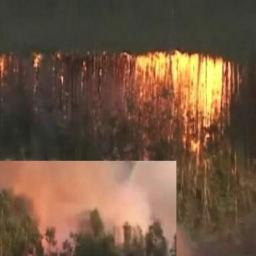Heavy smoke: (6, 160, 175, 248)
Medium fire: (2, 36, 242, 141)
